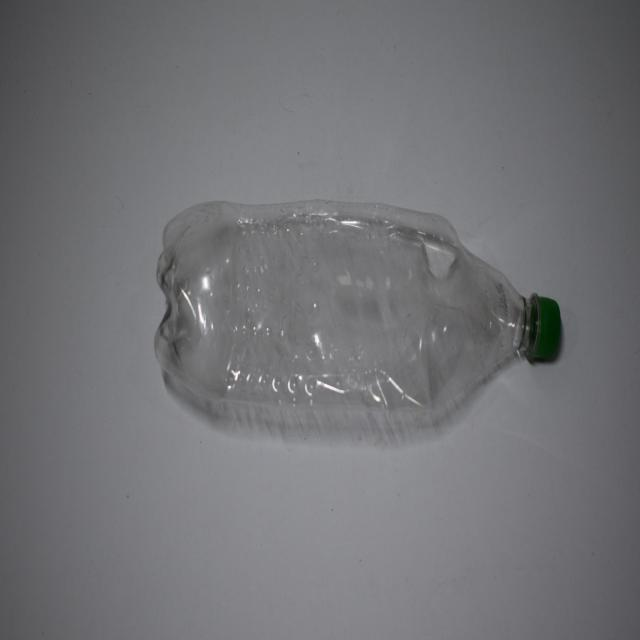bottle: (138, 165, 570, 495)
